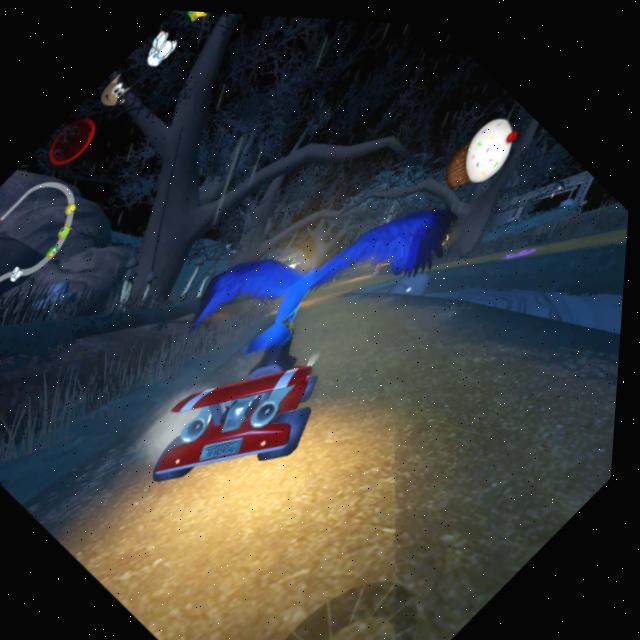player_kart: (123, 289, 381, 553)
track: (318, 254, 473, 401)
